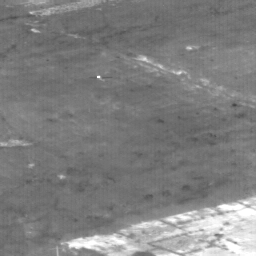aircraft: (98, 76, 100, 78)
